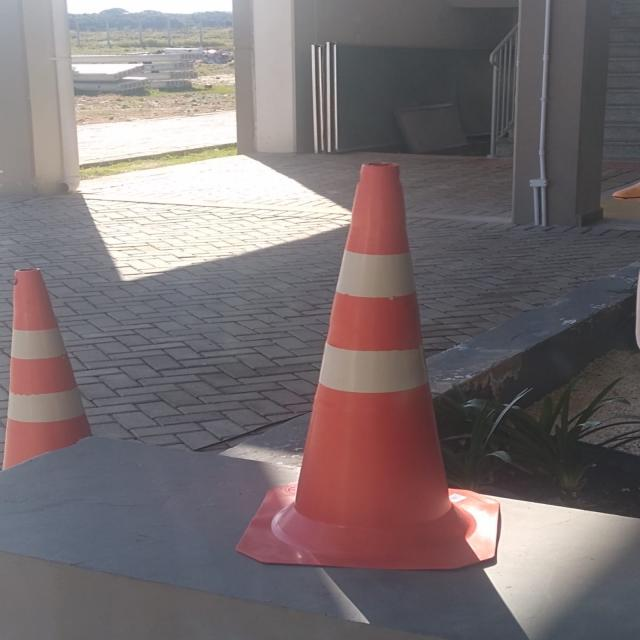cone: (235, 155, 540, 573)
